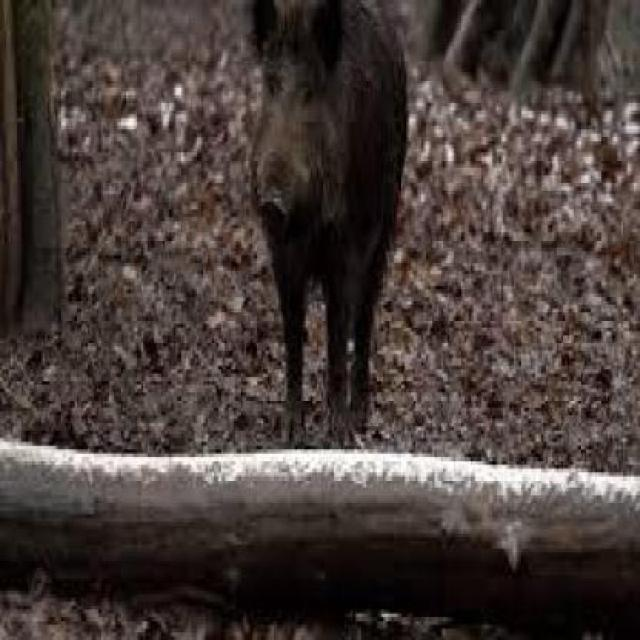wildboar: (242, 0, 409, 457)
